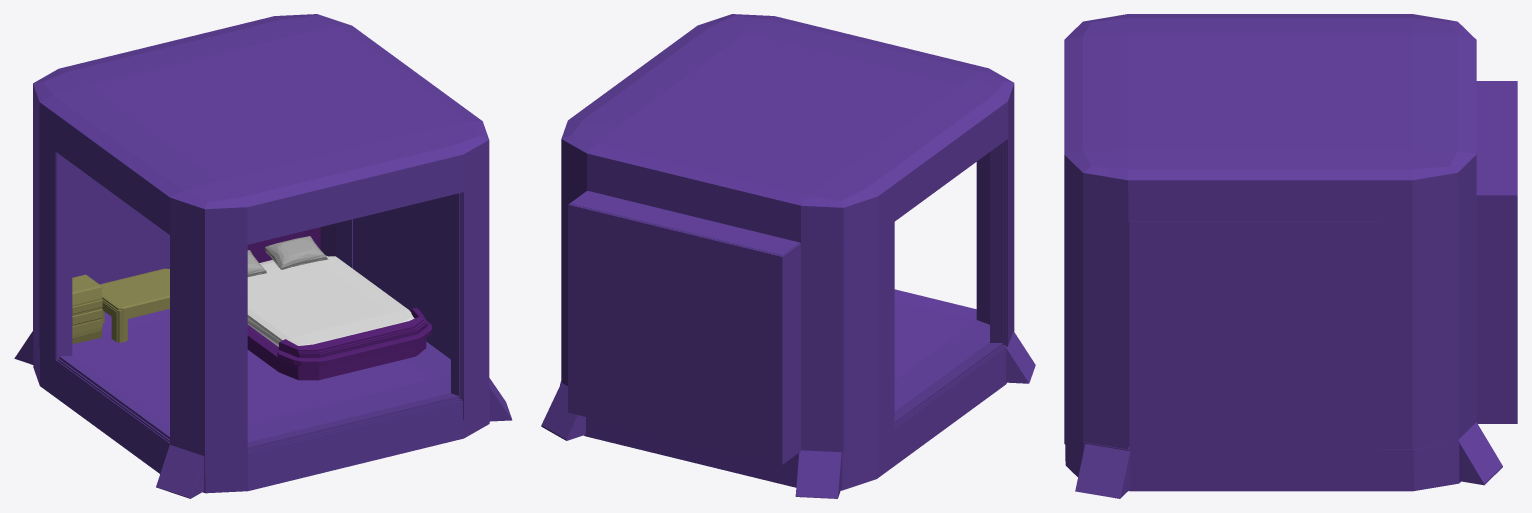
The model's file is cryopodz.fbx.
The picture shows the model from 3 angles, left to right: view 1: azimuth 30°, elevation 25°; view 2: azimuth 150°, elevation 25°; view 3: azimuth 270°, elevation 25°; orthographic projection. The views are drawn at different scales.
Parts seen in each view (by area): view 1: lowpolyPod.002, lowpoly, mattress.001, bed frame.001; view 2: lowpolyPod.002, lowpoly, mattress.001; view 3: lowpolyPod.002, mattress.001, lowpoly.
Part boxes in pixels (box(x1,y1,x2,y2)): lowpolyPod.002: box(33, 14, 489, 493); lowpoly: box(58, 154, 460, 450); mattress.001: box(14, 152, 512, 498); bed frame.001: box(247, 228, 427, 380); lowpolyPod.002: box(560, 14, 1014, 490); lowpoly: box(571, 142, 1003, 424); mattress.001: box(541, 140, 1035, 498); lowpolyPod.002: box(1064, 14, 1517, 491); mattress.001: box(1075, 81, 1516, 498); lowpoly: box(1476, 81, 1514, 194).
Bounding box in the file's own units: 941 × 754 × 968.
